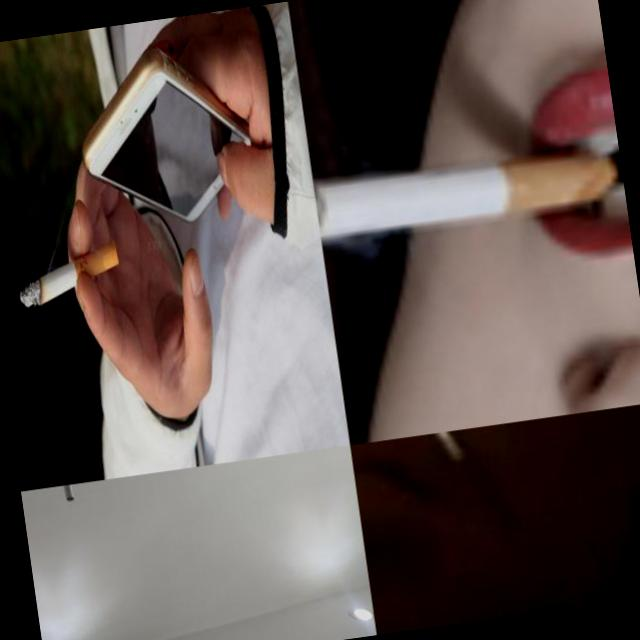smoke: (313, 138, 625, 244), (14, 238, 124, 308), (60, 484, 76, 502)
